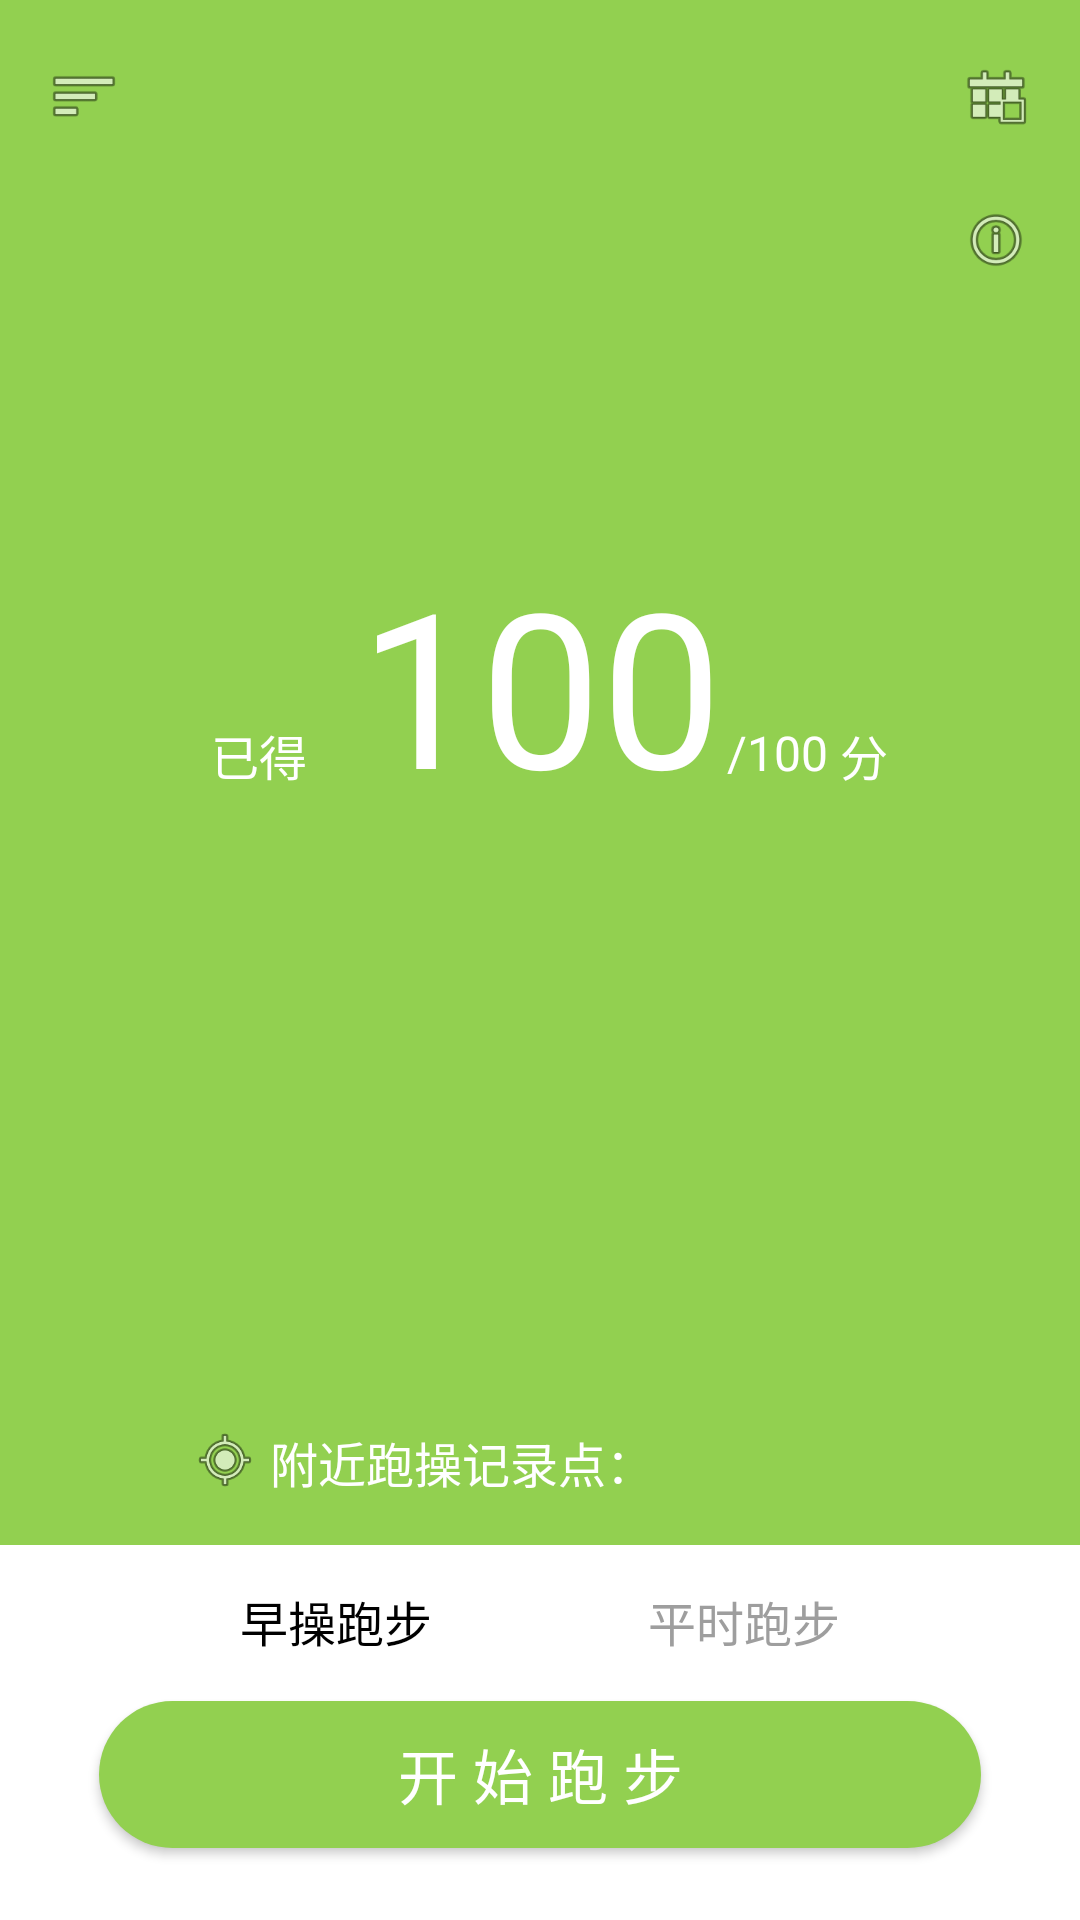

Where to tap for icons on this 1080×1920 app screen, as point (x, y):
info details: point (996, 240)
mylocation: point (225, 1460)
sort by size: point (84, 96)
today: point (996, 97)
